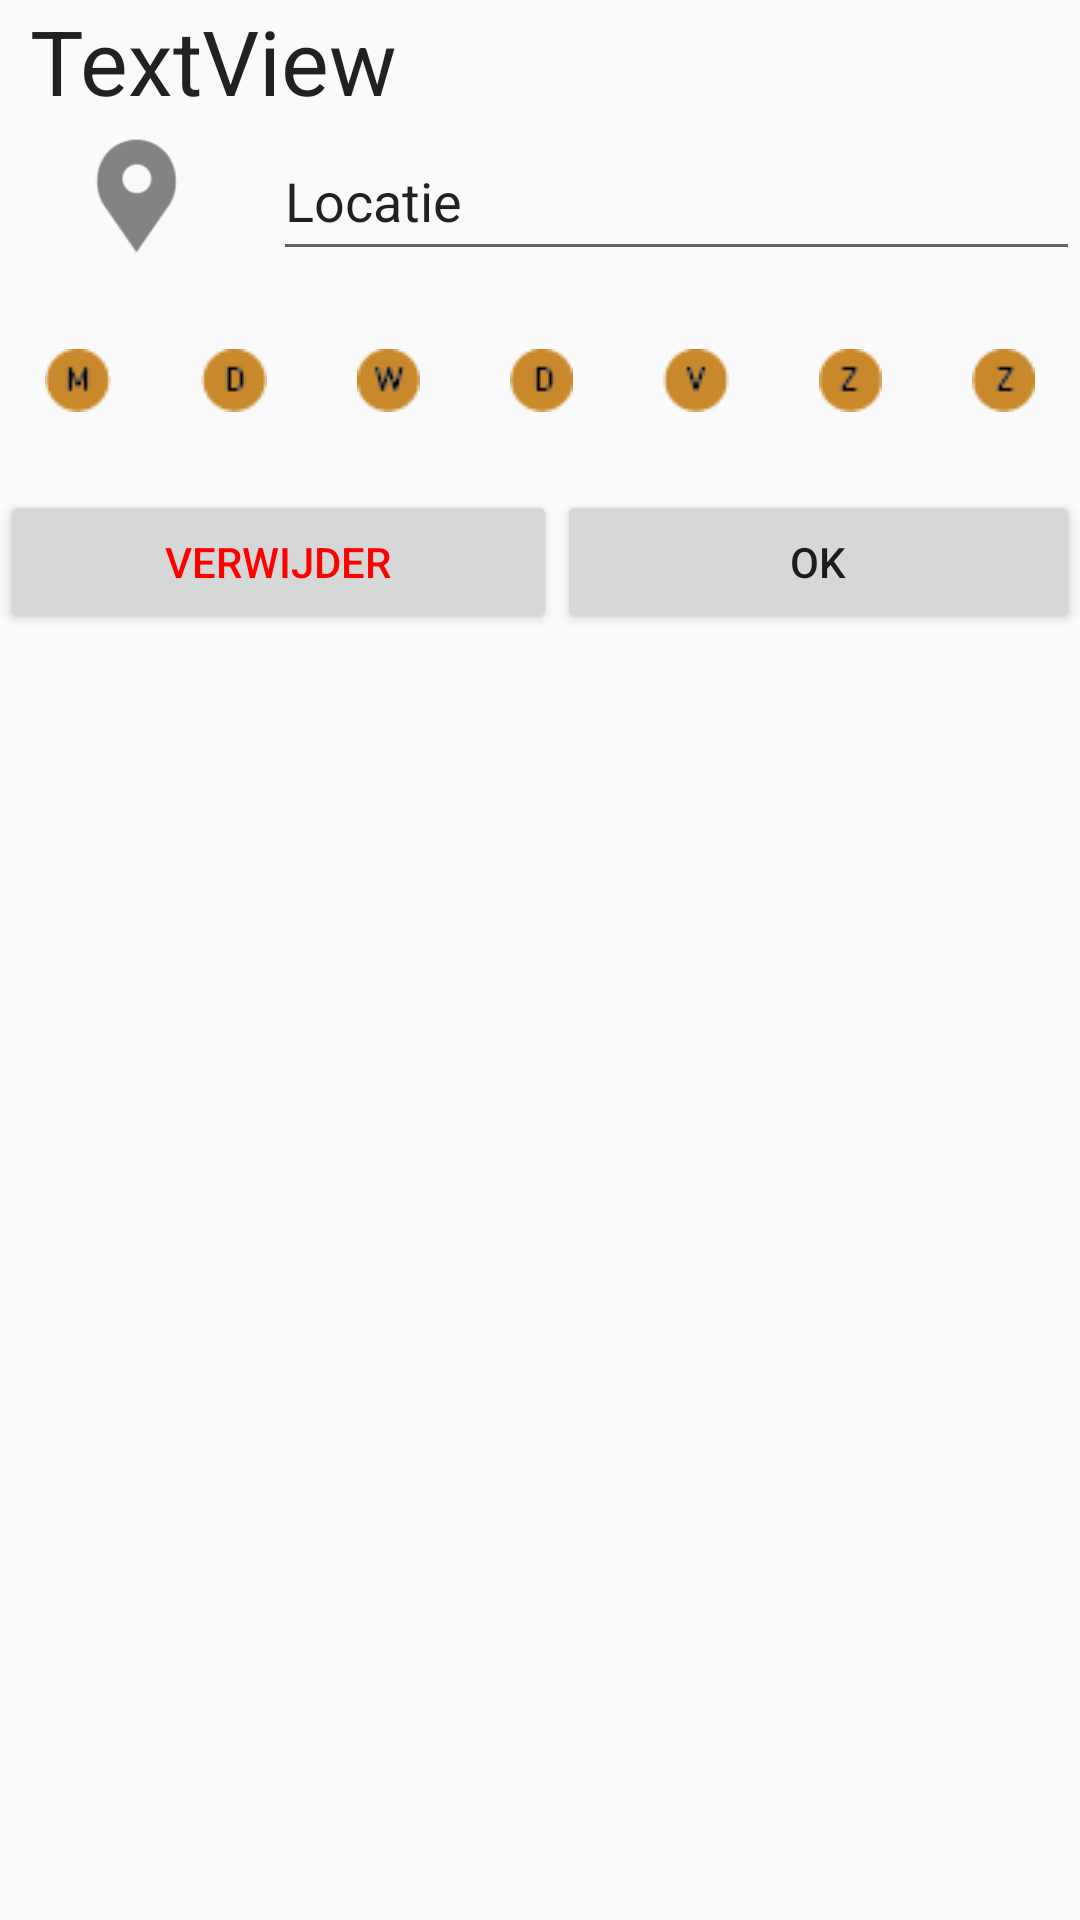

Screen size 1080w x 1920h. Icon name, then its center in pixels as point (x, y):
di on: point (234, 380)
do on: point (541, 380)
location: point (136, 195)
ma on: point (78, 380)
wo on: point (388, 380)
za on: point (850, 380)
zo on: point (1003, 380)
